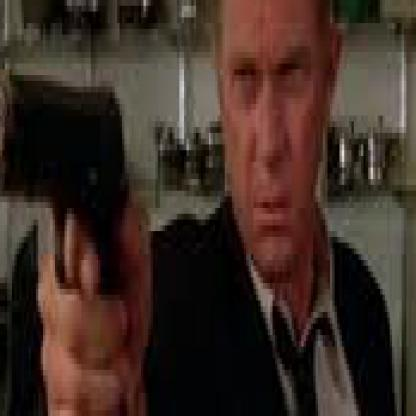gun: (88, 64, 366, 410), (0, 0, 101, 376)
